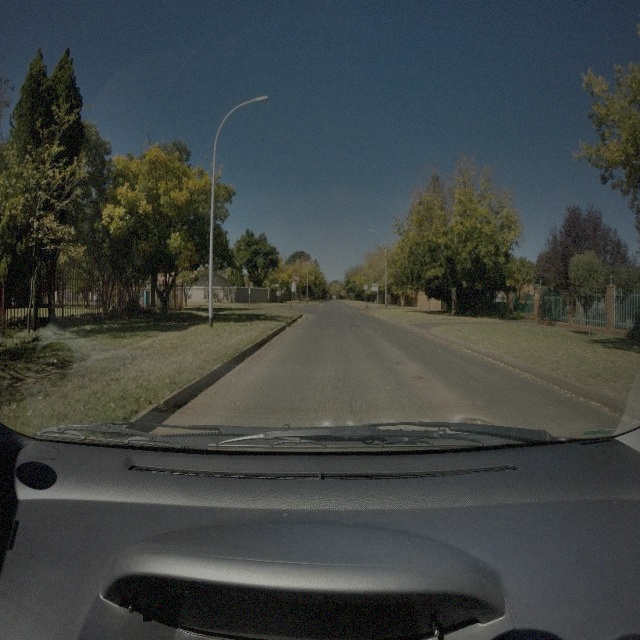pothole: (458, 411, 497, 428), (409, 371, 431, 385), (392, 360, 407, 366)
